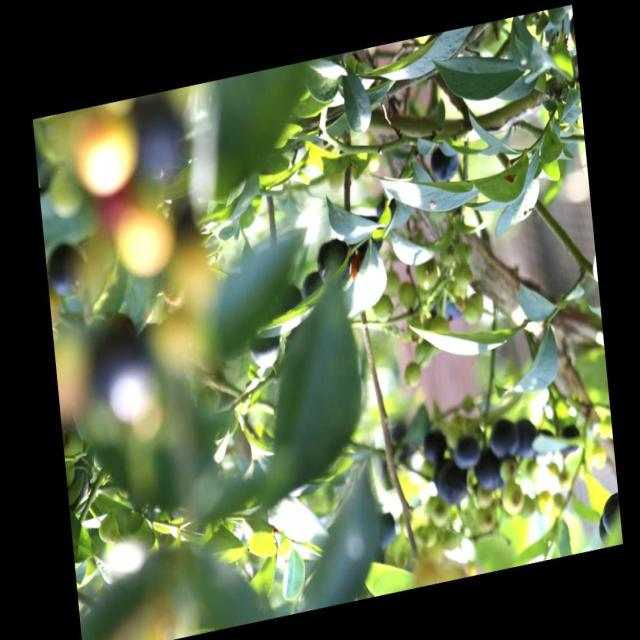blueberry: (312, 234, 350, 290), (427, 139, 462, 193), (244, 326, 280, 368), (435, 461, 468, 506), (488, 417, 520, 460), (513, 416, 542, 461), (450, 431, 481, 466), (476, 453, 502, 494), (558, 422, 583, 460)
blueberry-unripe: (412, 253, 440, 294), (499, 478, 525, 517), (427, 312, 452, 351), (462, 288, 486, 324), (370, 290, 393, 323), (396, 279, 418, 313), (400, 359, 422, 389), (411, 341, 433, 368), (454, 264, 474, 291), (438, 242, 456, 269), (382, 271, 400, 296), (454, 240, 471, 266)
